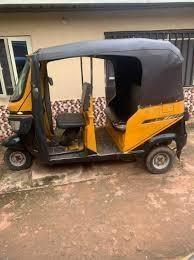keke: (1, 34, 190, 180)
